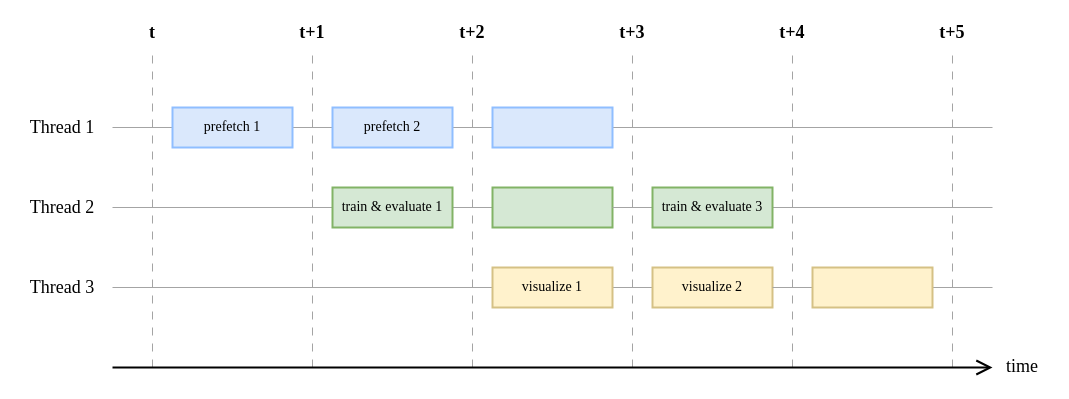
Some shapes in this 1069 by 399 pixel diagram are drawn without their labels. Each missing label, with the centre of its shape:
"prefetch 3" belongs at point (552, 127).
"train & evaluate 2" belongs at point (552, 207).
"visualize 3" belongs at point (872, 287).
